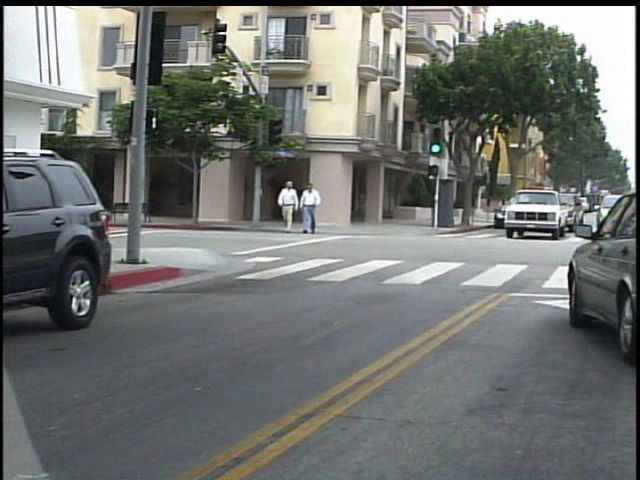person: (304, 178, 331, 239), (283, 177, 306, 240)
